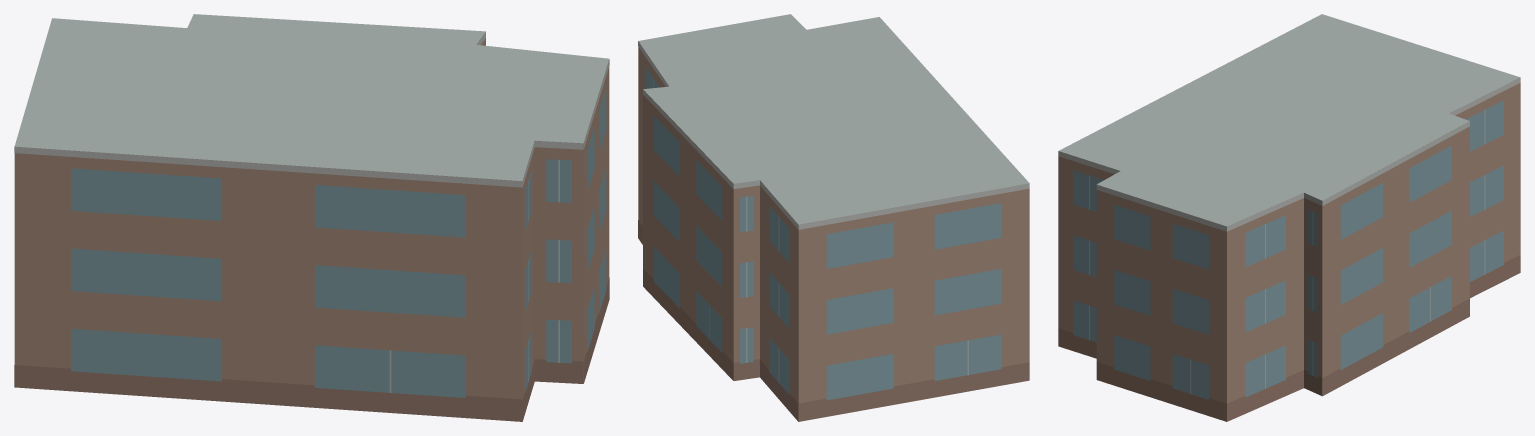
File: survey-upis-32525323.glb
3 views of the same model, side by side, from view 1: azimuth 30°, elevation 25°; view 2: azimuth 150°, elevation 25°; view 3: azimuth 270°, elevation 25° (orthographic). The views are drawn at different scales.
Visible parts, largest first — view 1: survey-upis-32525323.tmp; view 2: survey-upis-32525323.tmp; view 3: survey-upis-32525323.tmp.
Part boxes in pixels (<box>): survey-upis-32525323.tmp: <box>14,14,609,421</box>; survey-upis-32525323.tmp: <box>638,14,1029,421</box>; survey-upis-32525323.tmp: <box>1058,14,1520,421</box>.
Size of the model in its own units: 21.35 by 9.15 by 19.63.
